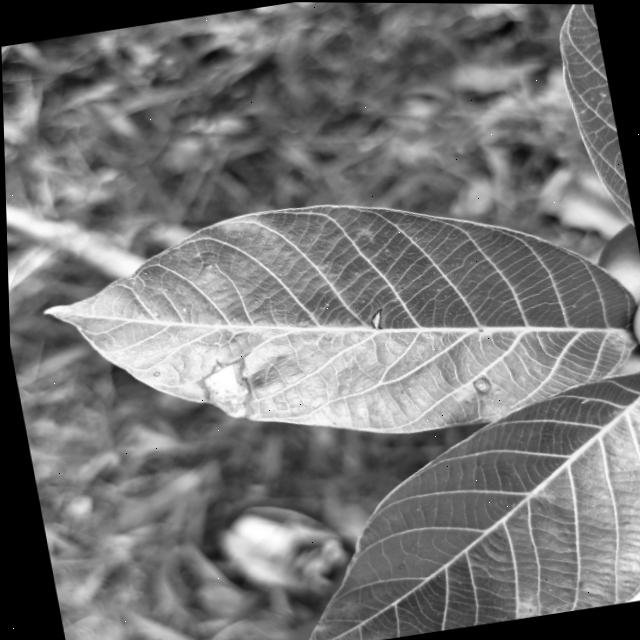Colletotrichum: (470, 375, 491, 394), (151, 371, 159, 378), (239, 376, 246, 381)
Leaf-Blight: (196, 359, 253, 425)
